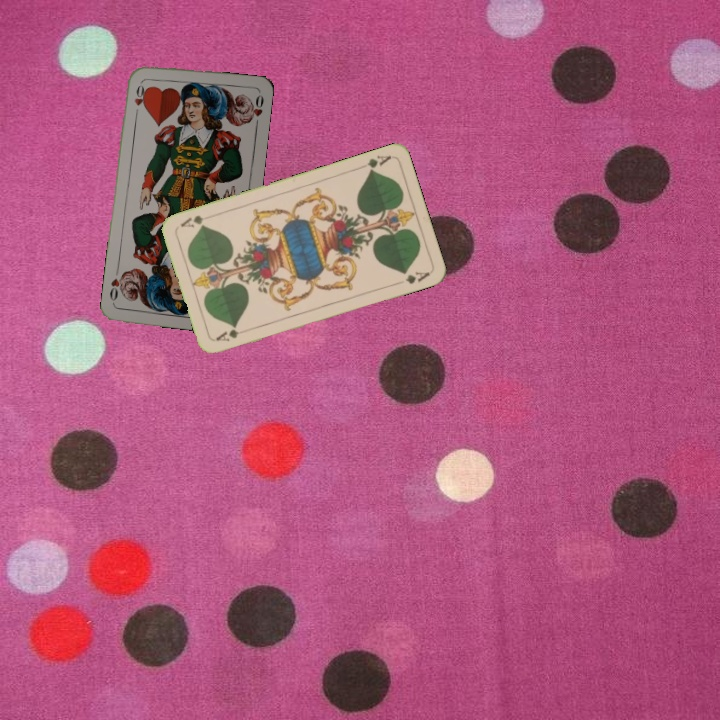GA: (212, 324, 251, 344), (363, 151, 394, 175)
HO: (130, 78, 147, 118)
